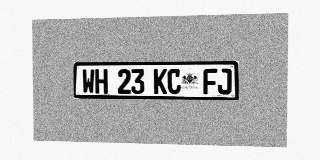2: (118, 69, 131, 94)
3: (131, 69, 144, 94)
C: (167, 69, 181, 94)
F: (203, 69, 217, 94)
H: (95, 69, 108, 94)
J: (217, 68, 232, 94)
K: (154, 69, 167, 94)
W: (82, 69, 95, 94)
